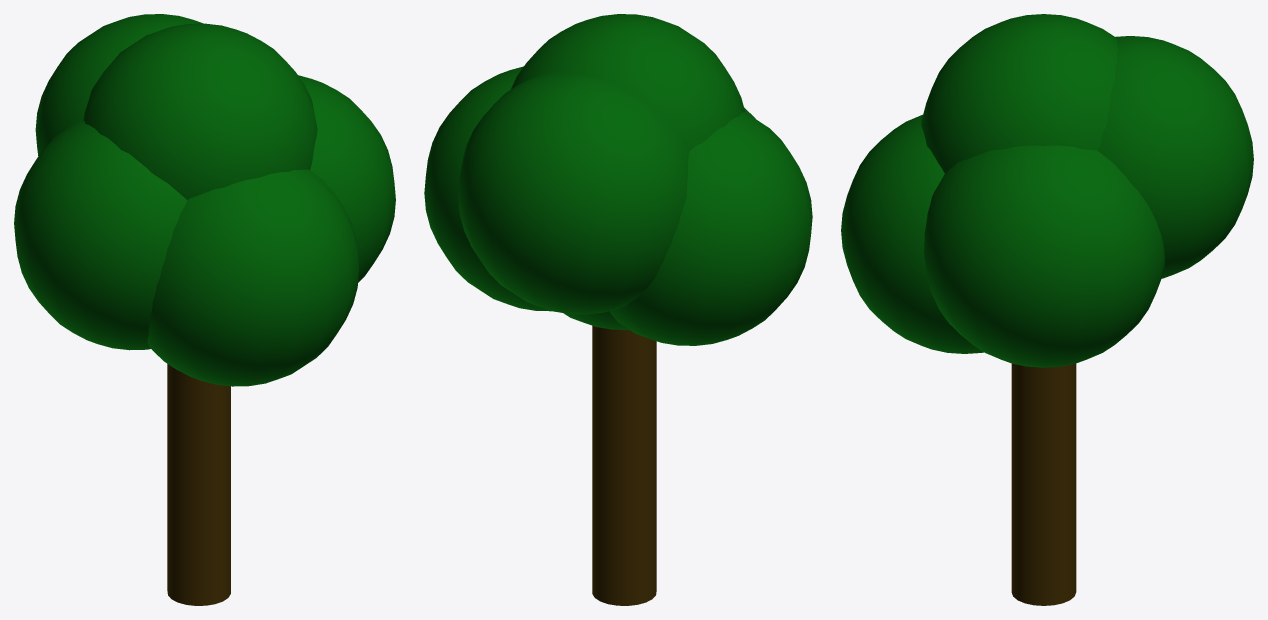
Rendered from tree.fbx.
The picture shows the model from 3 angles, left to right: view 1: azimuth 30°, elevation 25°; view 2: azimuth 150°, elevation 25°; view 3: azimuth 270°, elevation 25°; orthographic projection.
Parts seen in each view (by area): view 1: pSphere5; view 2: pSphere5; view 3: pSphere5.
Part boxes in pixels (bbox=[...]): pSphere5: bbox=[14, 14, 395, 605]; pSphere5: bbox=[424, 14, 812, 605]; pSphere5: bbox=[841, 14, 1253, 605].
Size of the model in its own units: 8.93 by 13.57 by 8.96.
